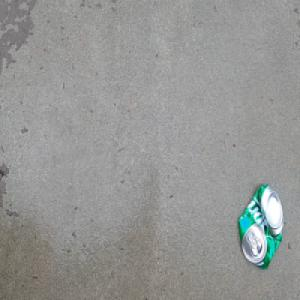SodaCan: (236, 180, 285, 270)
